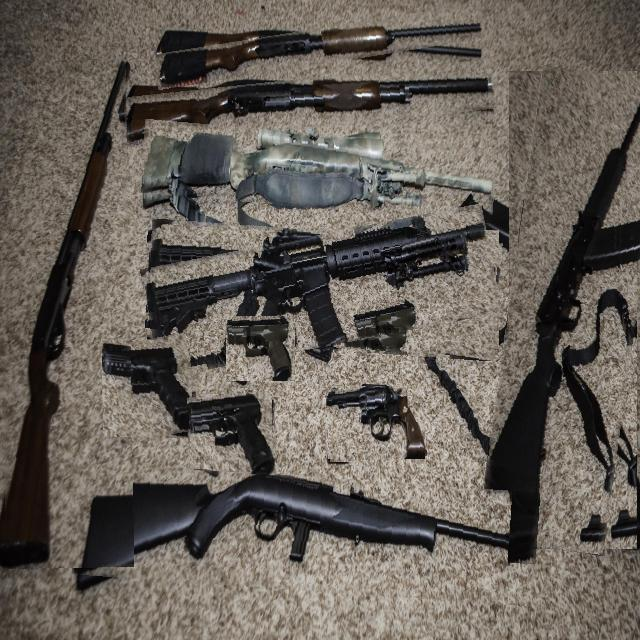gun: (493, 68, 640, 552), (0, 60, 132, 568), (74, 469, 538, 599), (144, 219, 498, 362), (146, 224, 501, 355), (140, 127, 496, 216), (123, 68, 496, 138), (153, 16, 485, 78), (97, 336, 198, 442), (327, 384, 426, 461), (188, 392, 274, 480), (226, 316, 295, 381)
